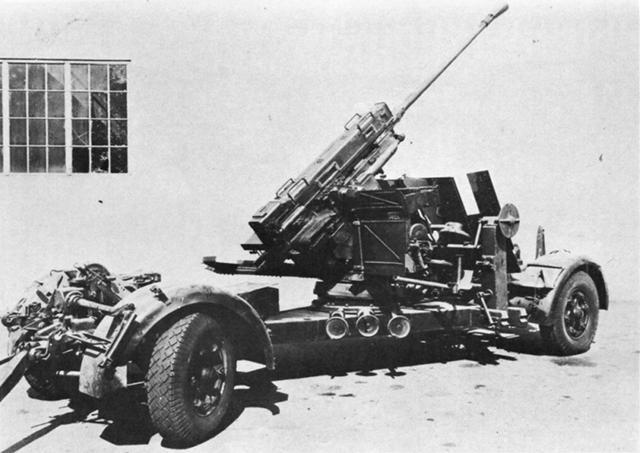MIL_SPG: (0, 5, 609, 448)
